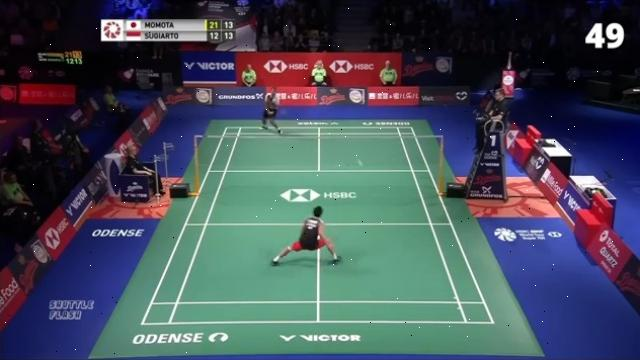Shuttlecock: (355, 160, 365, 166)
